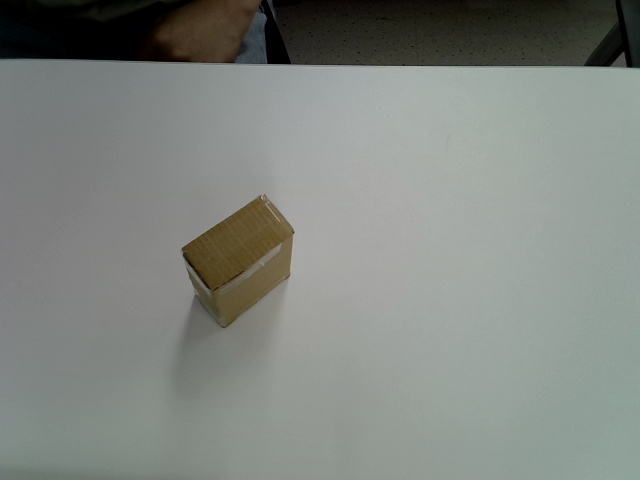normal: (181, 194, 295, 327)
